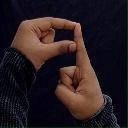hand: (54, 22, 106, 120), (11, 16, 77, 74)
